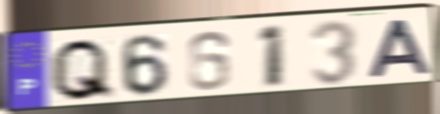1: (256, 23, 289, 90)
3: (309, 16, 361, 88)
6: (119, 31, 172, 98), (187, 29, 232, 93)
A: (365, 17, 434, 80)
Q: (48, 36, 117, 103)
